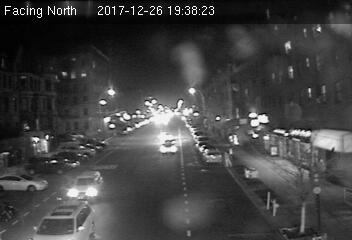car: (31, 197, 96, 240), (70, 171, 103, 199), (202, 147, 222, 163), (158, 141, 177, 155)
